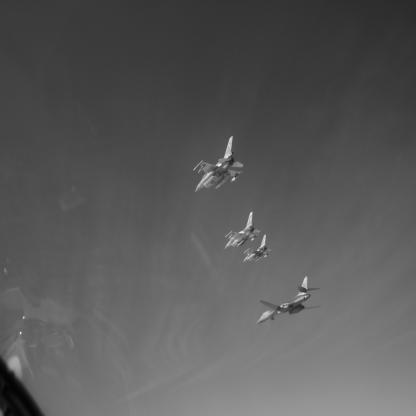B1: (257, 276, 324, 326)
F16: (194, 137, 245, 195), (224, 212, 262, 251), (243, 235, 273, 264)
